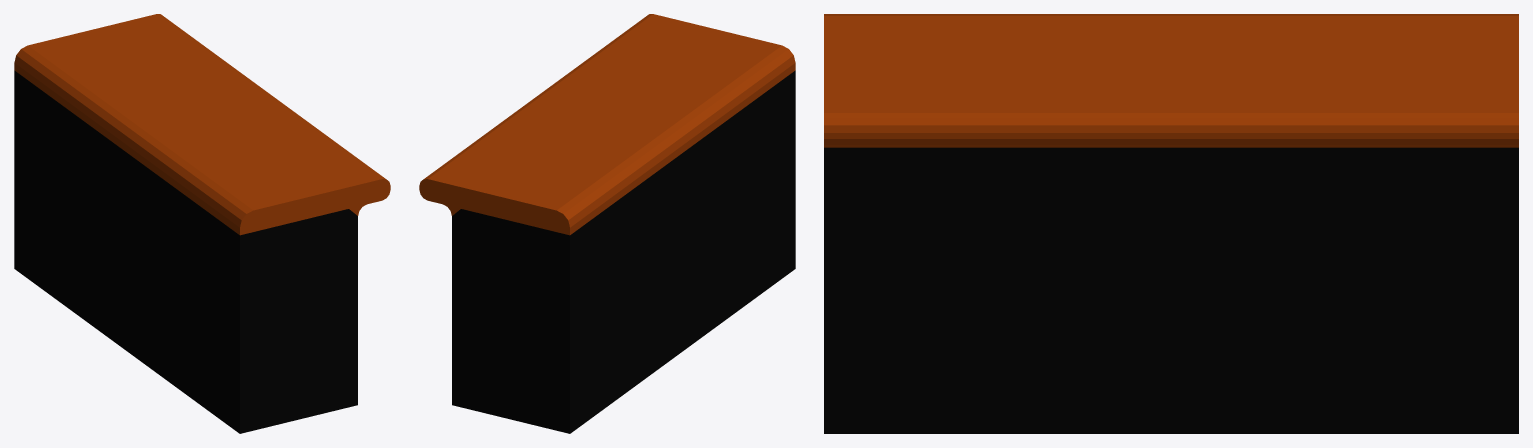
The model's file is island_counter.glb.
3 views of the same model, side by side, from view 1: azimuth 30°, elevation 25°; view 2: azimuth 150°, elevation 25°; view 3: azimuth 270°, elevation 25° (orthographic). The views are drawn at different scales.
Visible parts, largest first — view 1: Cube; view 2: Cube; view 3: Cube.
Boxes of the visible parts, x1,y1,x2,y2 form: Cube: [14, 14, 390, 433]; Cube: [419, 14, 795, 433]; Cube: [824, 14, 1518, 433].
Bounding box in the file's own units: 3.17 × 4.43 × 8.22.
